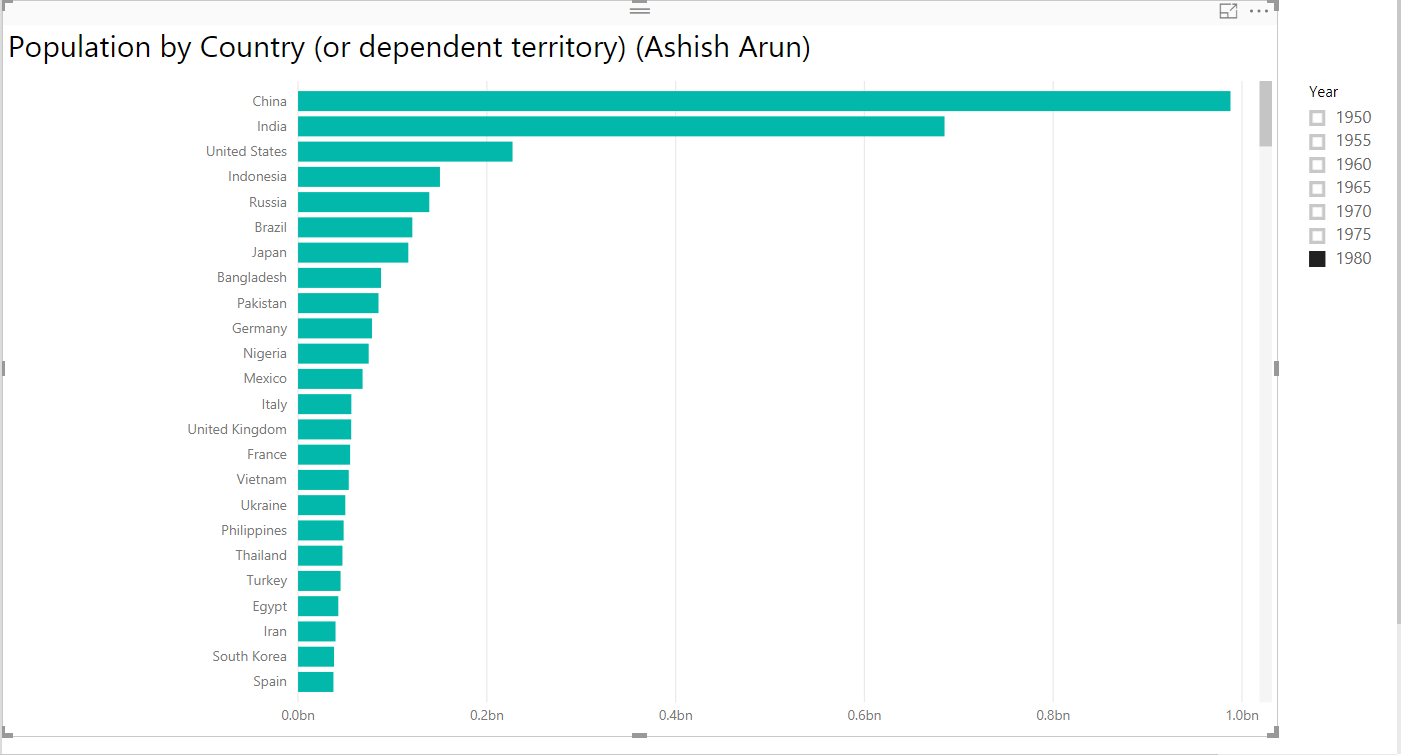

The page's visual inventory and layout, read from the dashboard file:
{"tool":"powerbi","page":{"name":"population by country","canvas":[1280,720],"ordinal":0},"visuals":[{"type":"barChart","fields":{"Category":["Population 1950-1980.Country (or dependent territory)"],"Y":["Population 1950-1980.Population"]},"box":[0,12,1021,570],"z":1},{"type":"slicer","fields":{"Values":["Population 1950-1980.Year"]},"box":[1033.2,51.6,111,164],"z":2}]}

Visuals, with their boxes on the page's 1280x720 design canvas (x1, y1, x2, y2). These are canvas units, not pixel positions in the 1401x755 screenshot, which may show the page scaled, cropped or inside an application window:
barChart - Population 1950-1980.Country (or dependent territory) x Population 1950-1980.Population: locate(0, 12, 1021, 582)
slicer - Population 1950-1980.Year: locate(1033, 52, 1144, 216)
